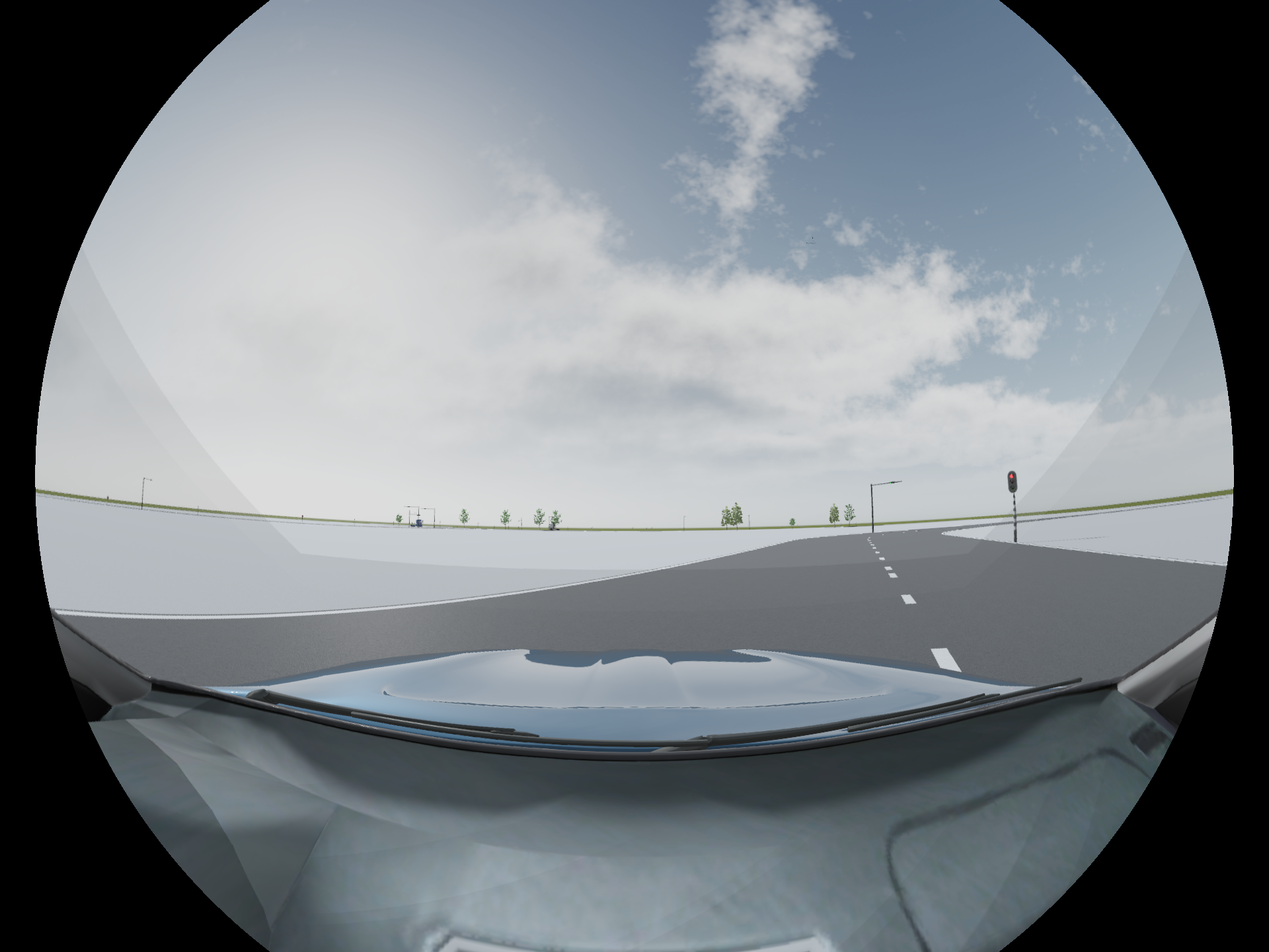Red Light: (1008, 469, 1018, 494)
